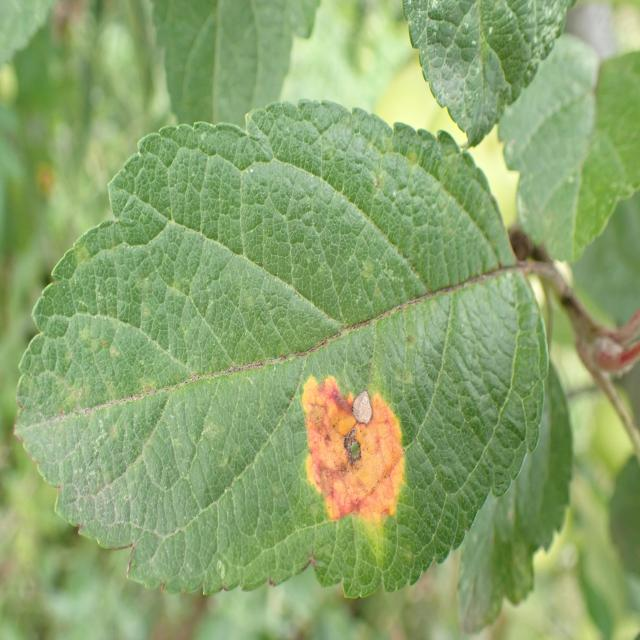rust: (13, 98, 549, 598)
